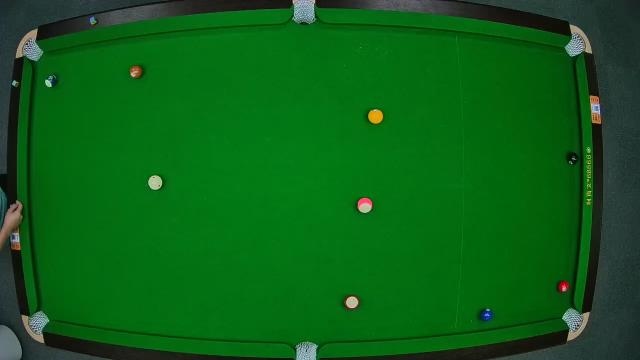bag1: (19, 36, 45, 64)
bag2: (292, 0, 316, 26)
bag3: (563, 30, 589, 57)
bag4: (25, 309, 51, 339)
bag5: (294, 340, 318, 360)
bag6: (560, 306, 586, 334)
ball0: (148, 174, 164, 192)
ball1: (366, 109, 384, 126)
ball11: (344, 295, 360, 311)
ball12: (357, 197, 373, 215)
ball14: (44, 72, 58, 90)
ball2: (479, 306, 495, 322)
ball3: (556, 280, 570, 294)
ball7: (130, 65, 142, 79)
ball8: (566, 151, 578, 167)
